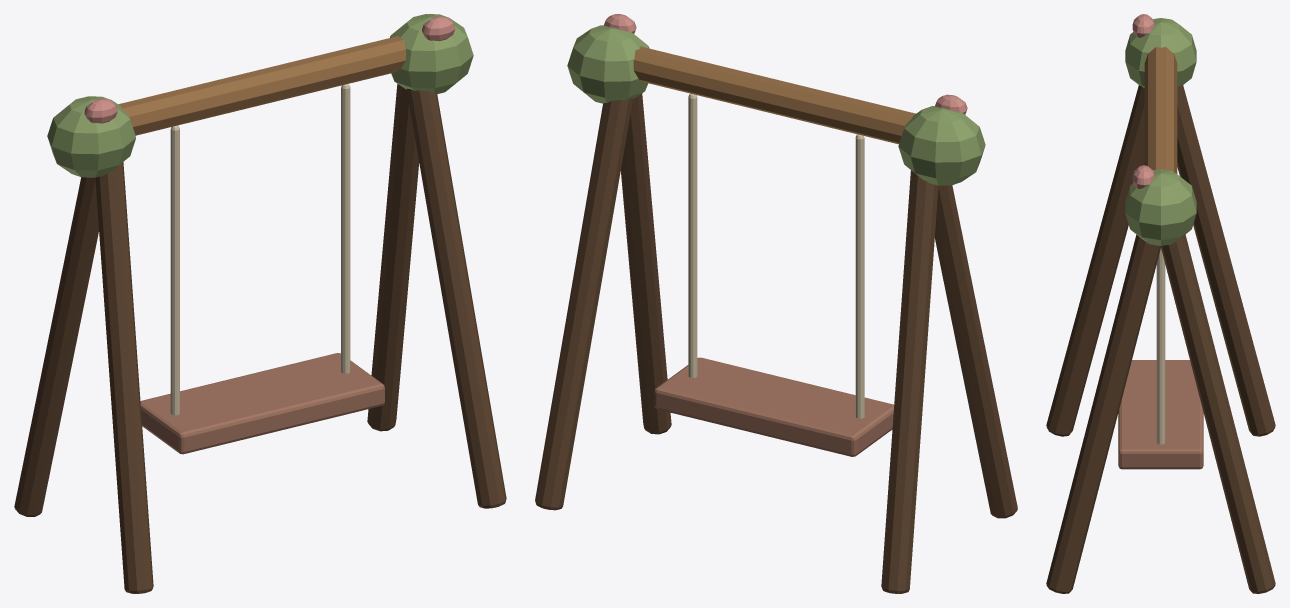
Rendered from park-swing.glb.
The picture shows the model from 3 angles, left to right: view 1: azimuth 30°, elevation 25°; view 2: azimuth 150°, elevation 25°; view 3: azimuth 270°, elevation 25°; orthographic projection. The views are drawn at different scales.
Parts seen in each view (by area): view 1: park-swing_Discovery_Mesh, discovery_Motion.006_Mesh; view 2: park-swing_Discovery_Mesh, discovery_Motion.006_Mesh; view 3: park-swing_Discovery_Mesh, discovery_Motion.006_Mesh.
Boxes of the visible parts, bbox=[...] form: park-swing_Discovery_Mesh: bbox=[14, 14, 506, 593]; discovery_Motion.006_Mesh: bbox=[140, 84, 384, 454]; park-swing_Discovery_Mesh: bbox=[535, 14, 1017, 593]; discovery_Motion.006_Mesh: bbox=[654, 93, 894, 456]; park-swing_Discovery_Mesh: bbox=[1046, 14, 1275, 593]; discovery_Motion.006_Mesh: bbox=[1118, 248, 1203, 469].
Bounding box in the file's own units: 2.6 × 2.72 × 1.35.
